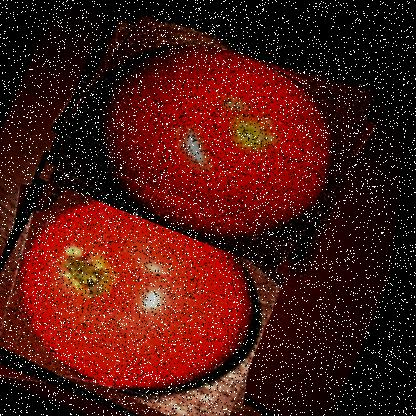tomato: (35, 4, 390, 278), (0, 139, 311, 415)
